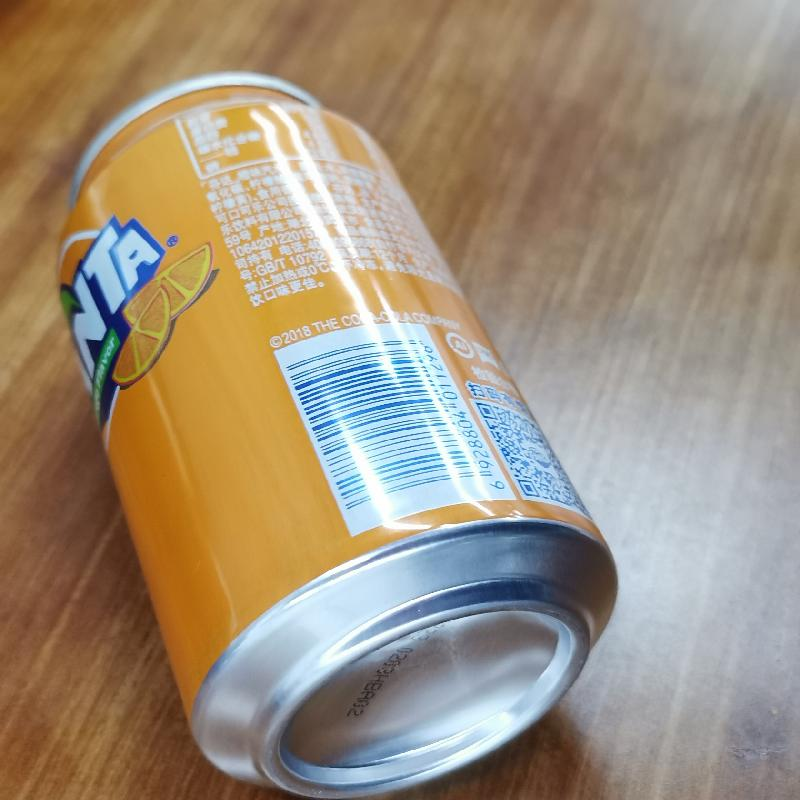cans: (54, 65, 622, 800)
